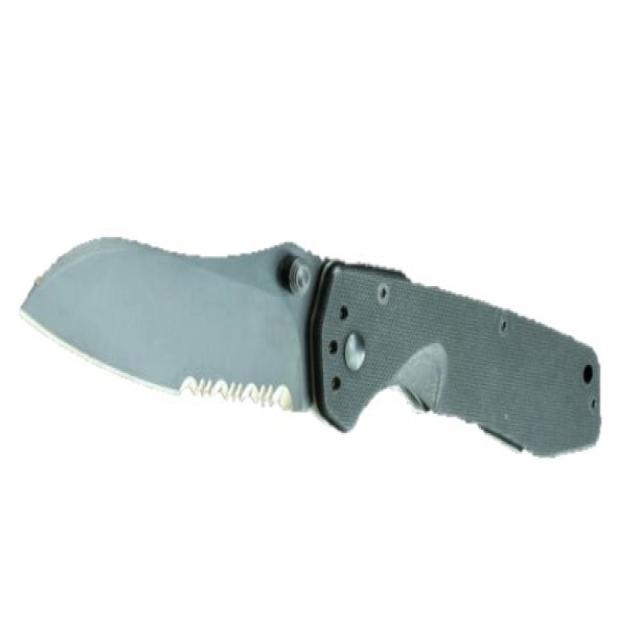knife: (15, 220, 610, 481)
